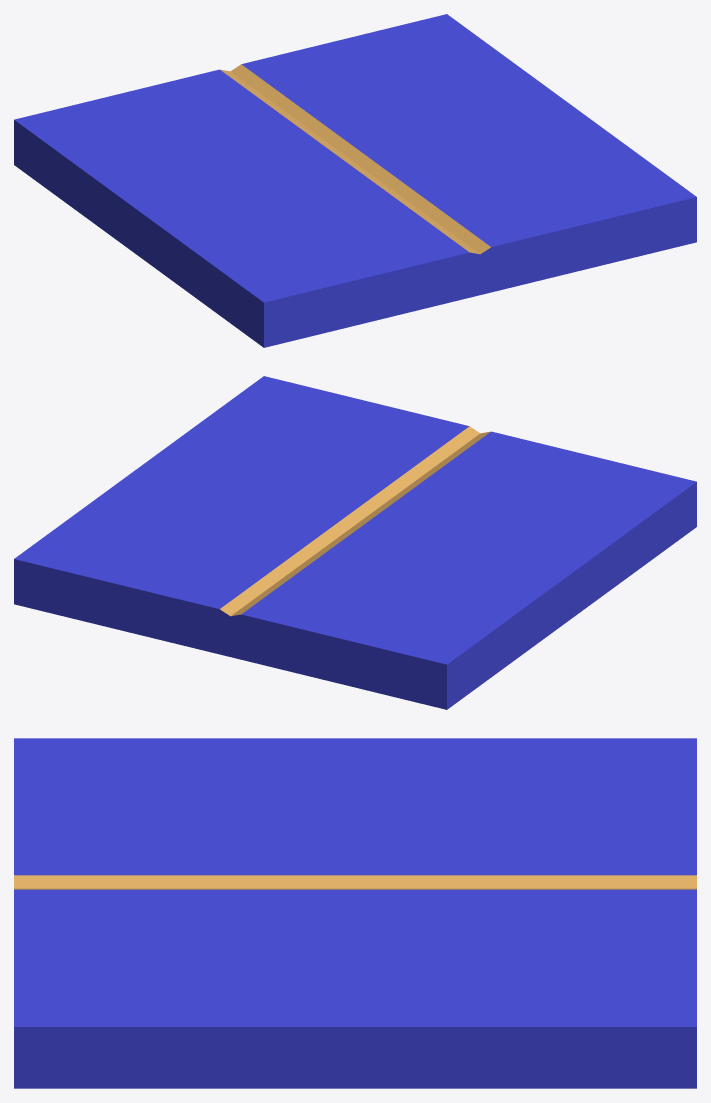
File: LineTileFinal.fbx
The picture shows the model from 3 angles, top to bottom: view 1: azimuth 30°, elevation 25°; view 2: azimuth 150°, elevation 25°; view 3: azimuth 270°, elevation 25°; orthographic projection. The views are drawn at different scales.
Visible parts, largest first — view 1: LineTile; view 2: LineTile; view 3: LineTile.
Boxes of the visible parts, x1,y1,x2,y2 form: LineTile: (14, 14, 696, 347); LineTile: (14, 376, 696, 709); LineTile: (14, 738, 696, 1088).
Bounding box in the file's own units: 200 × 20 × 200.
